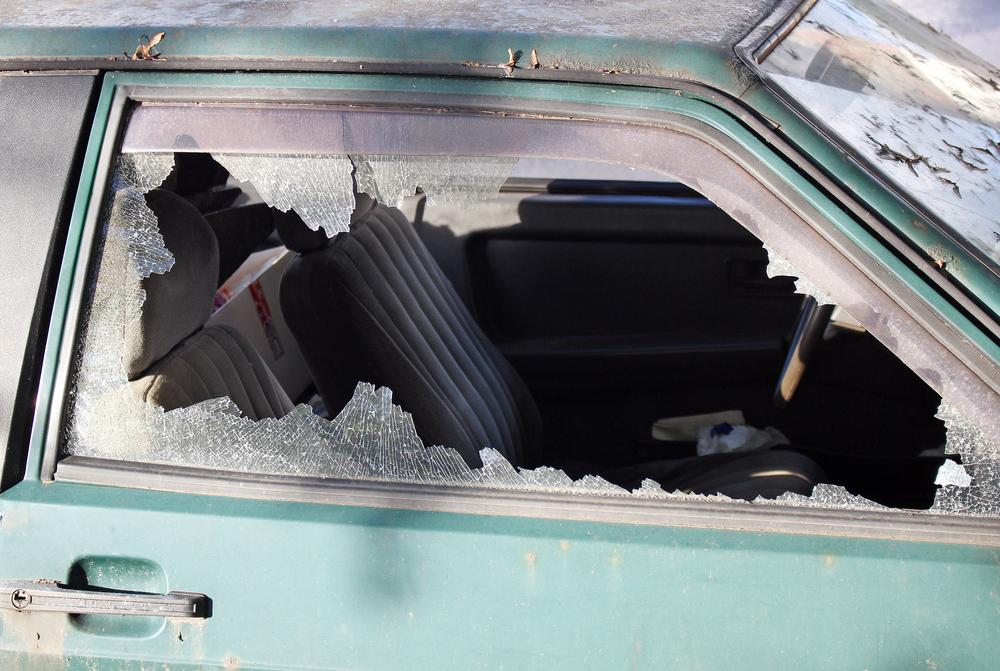glass shatter: (58, 101, 1000, 518)
